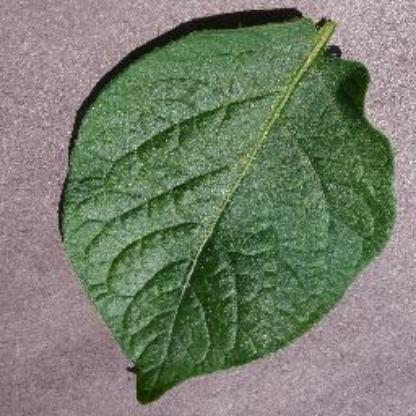Healthy-plant: (53, 15, 399, 403)
